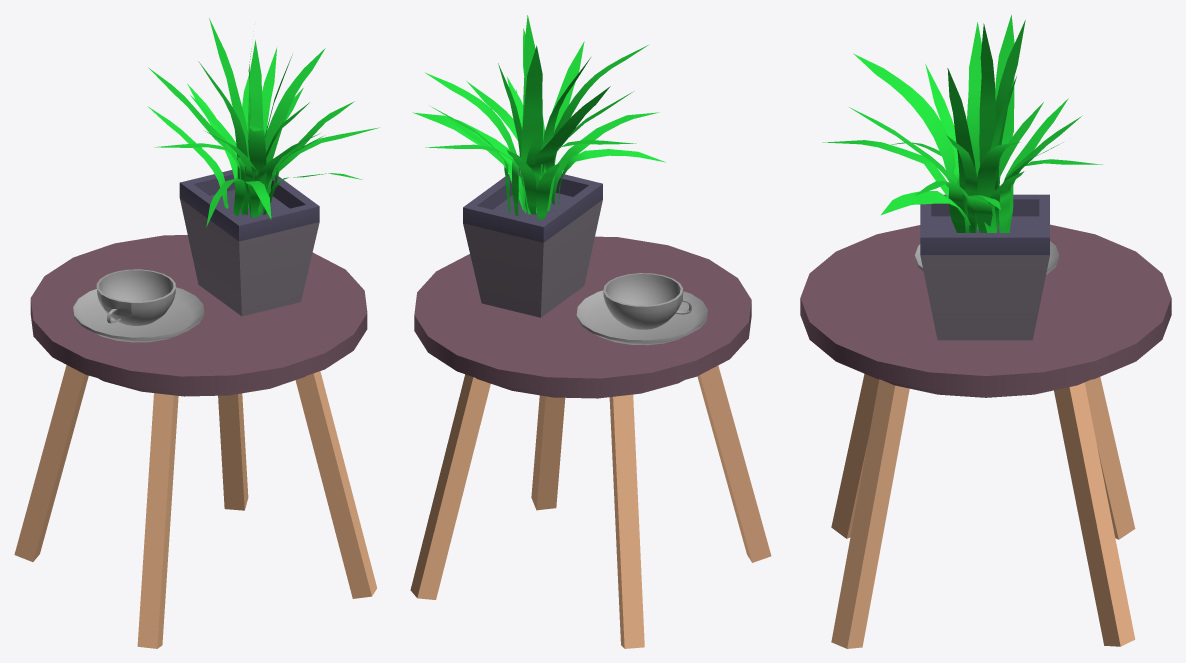
File: nightstand.fbx
3 views of the same model, side by side, from view 1: azimuth 30°, elevation 25°; view 2: azimuth 150°, elevation 25°; view 3: azimuth 270°, elevation 25° (orthographic). The views are drawn at different scales.
Visible parts, largest first — view 1: pCube12; view 2: pCube12; view 3: pCube12.
Part boxes in pixels (x1,y1,x2,y2): pCube12: [14, 18, 379, 648]; pCube12: [410, 15, 771, 648]; pCube12: [800, 14, 1171, 648].
Size of the model in its own units: 2.01 by 3.38 by 1.9.
